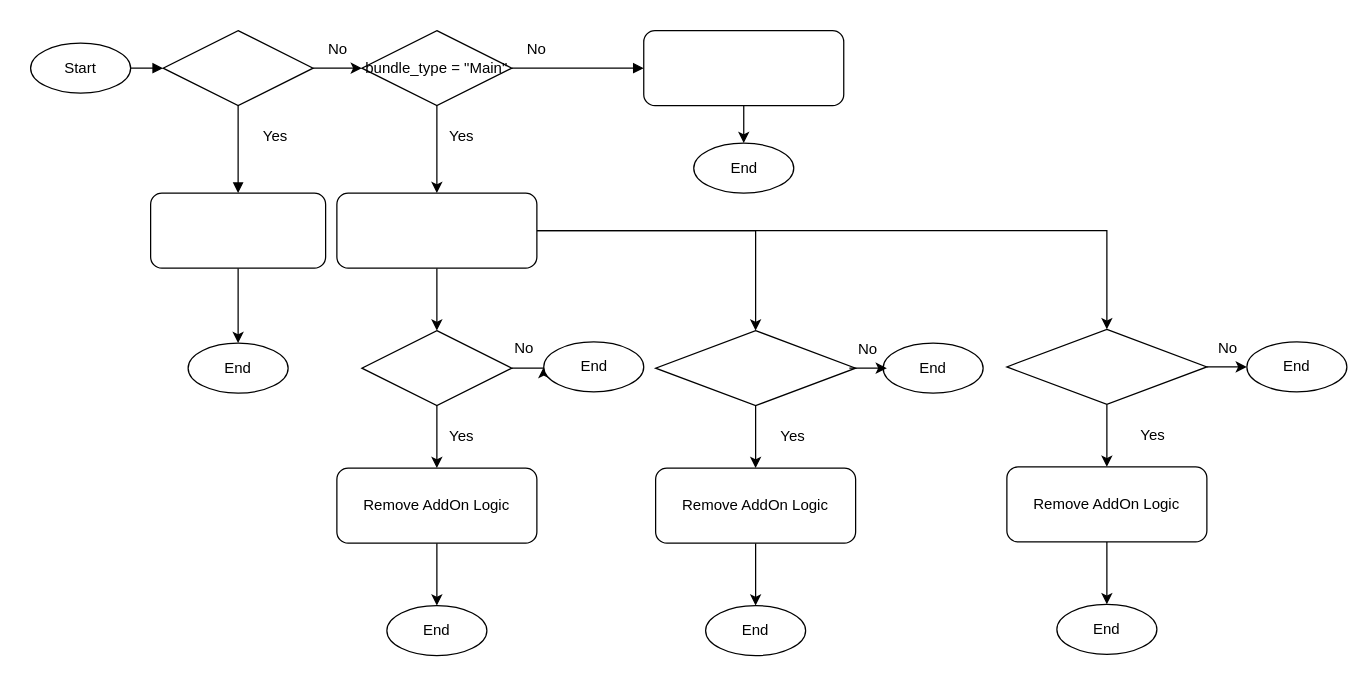
The diagram is 1369 pixels wide and 678 high, and some of its shapes have lost their labels. Here are the shapes that lost their labels. From the top down, the centre of each, then its label:
point (237, 67): bundle_type = "AddOn"
point (743, 67): AddOn Non Bundle Logic
point (237, 230): AddOn Bundle Logic
point (436, 230): Main Delta Action Logic
point (436, 367): Remove Device Logic?
point (755, 367): Remove AddOn-HSSP?
point (1106, 366): Remove Upgrade Speed?
